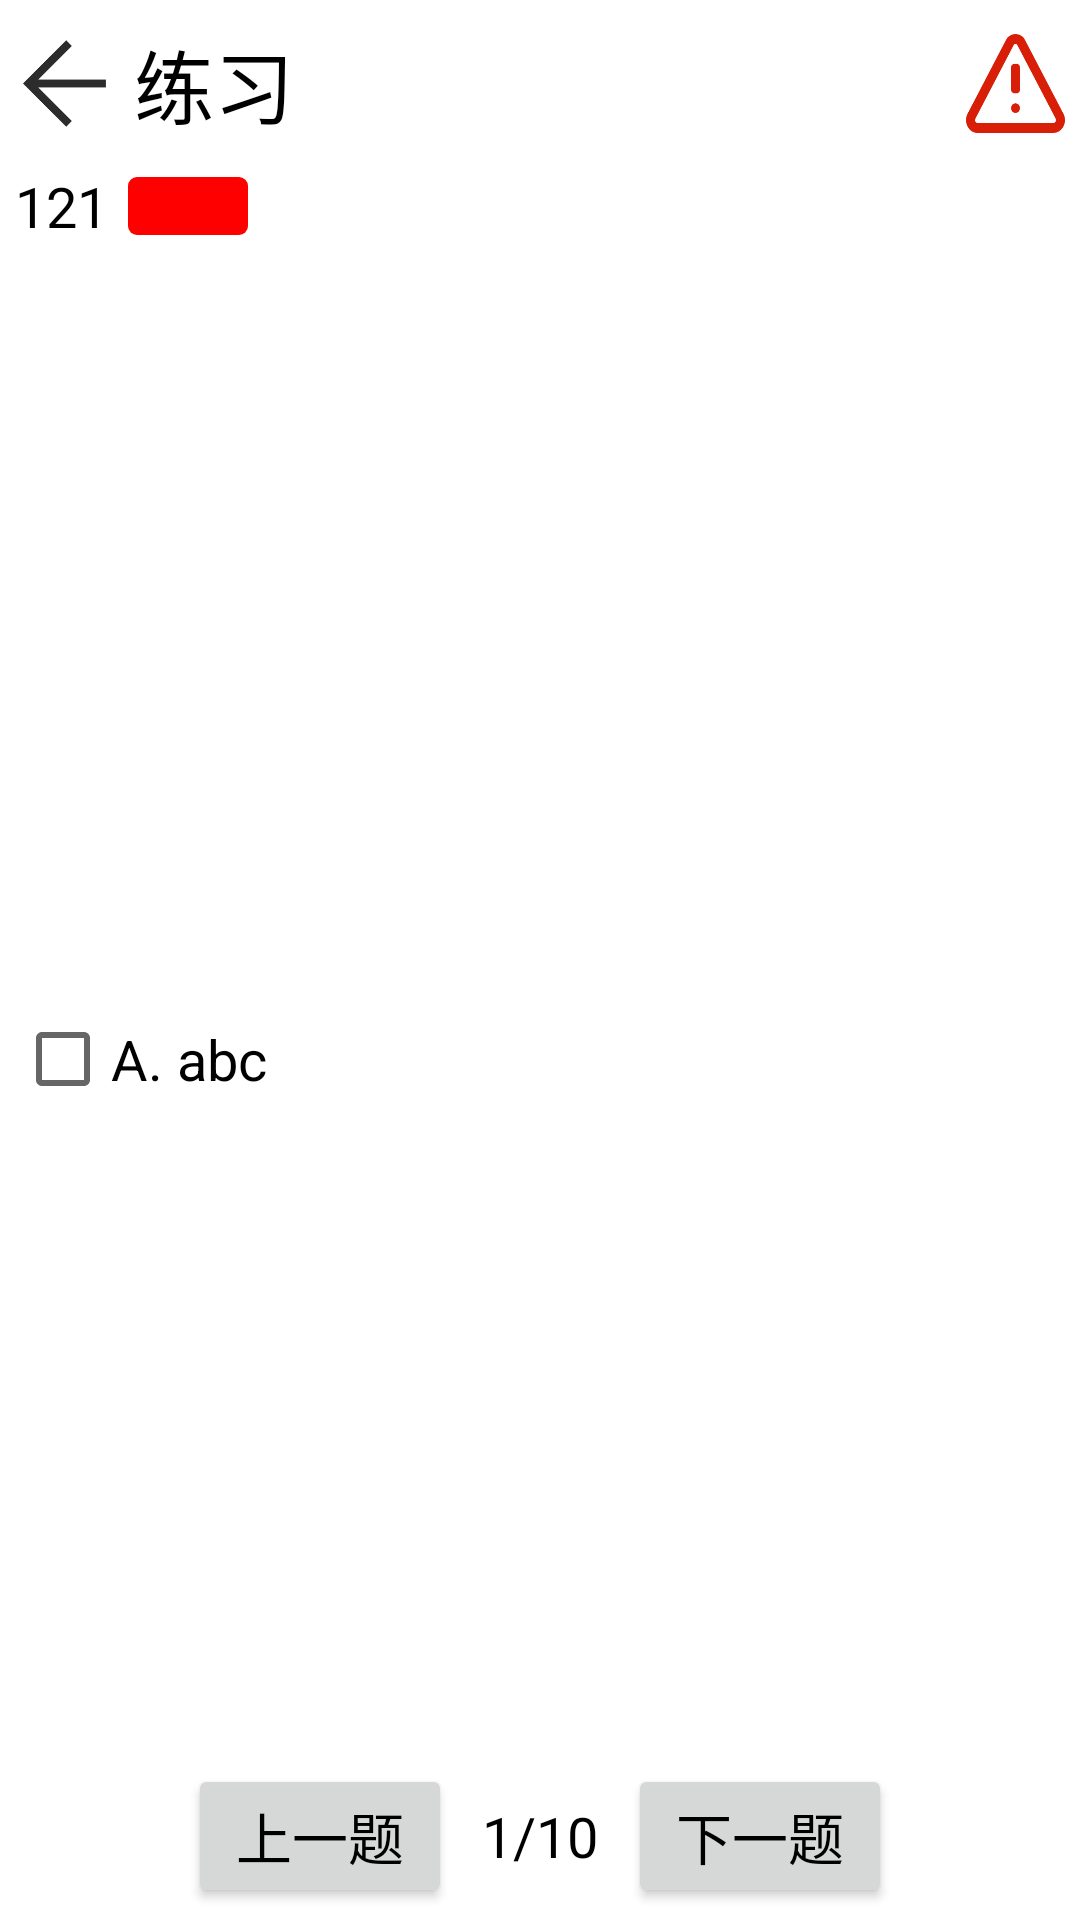

Locate icon controls on the screen. Image size 1080 x 1920, boxes as (x1, y1, x2, y2).
pic back: (23, 40, 106, 127)
pic report: (966, 34, 1065, 133)
